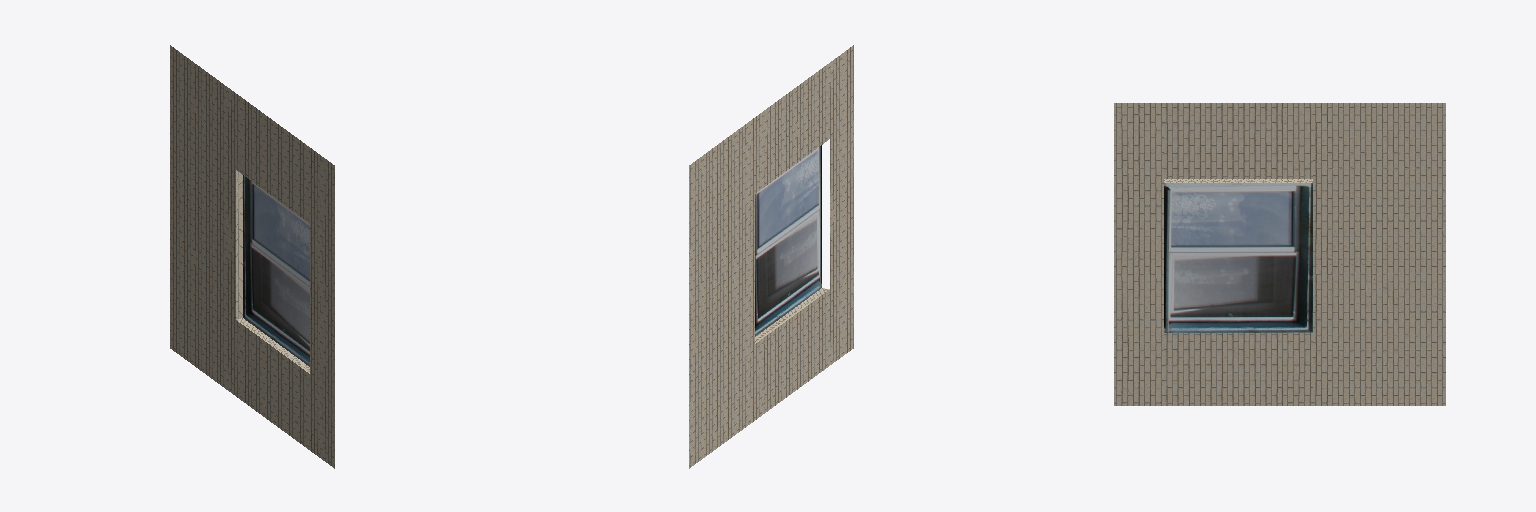
3 renders of one model, left to right at view 1: azimuth 30°, elevation 25°; view 2: azimuth 150°, elevation 25°; view 3: azimuth 270°, elevation 25°, orthographic.
Visible parts, largest first — view 1: Plane001, Plane002; view 2: Plane001, Plane002; view 3: Plane001, Plane002.
Part boxes in pixels (bbox=[...]): Plane001: bbox=[170, 45, 334, 468]; Plane002: bbox=[243, 175, 309, 366]; Plane001: bbox=[689, 45, 853, 468]; Plane002: bbox=[755, 145, 821, 336]; Plane001: bbox=[1114, 103, 1445, 405]; Plane002: bbox=[1164, 183, 1312, 332].
Bounding box in the file's own units: 5 × 202 × 200.
2 materials, 2 textured.